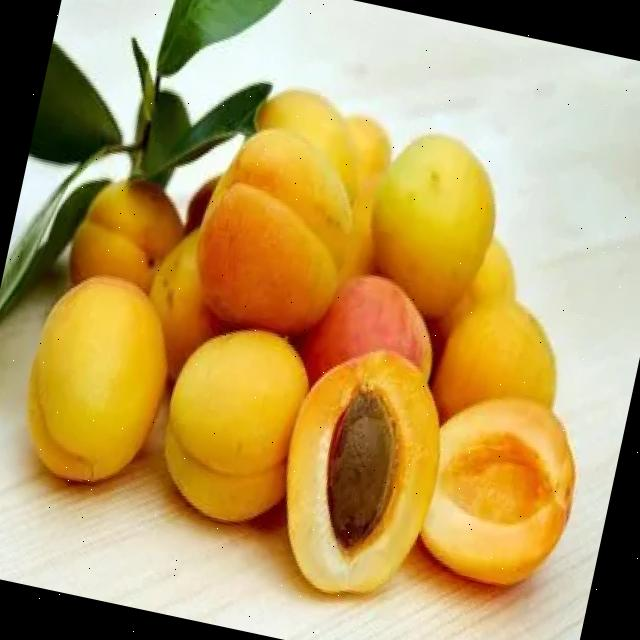Cekirdek: (328, 386, 395, 544)
Kayisi: (27, 280, 166, 476)
Yaprak: (0, 0, 272, 312)
